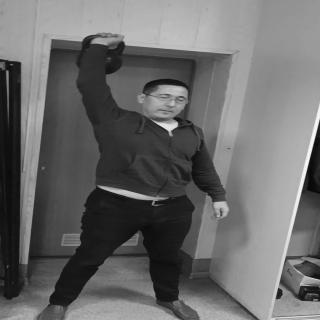girya: (77, 34, 127, 76)
